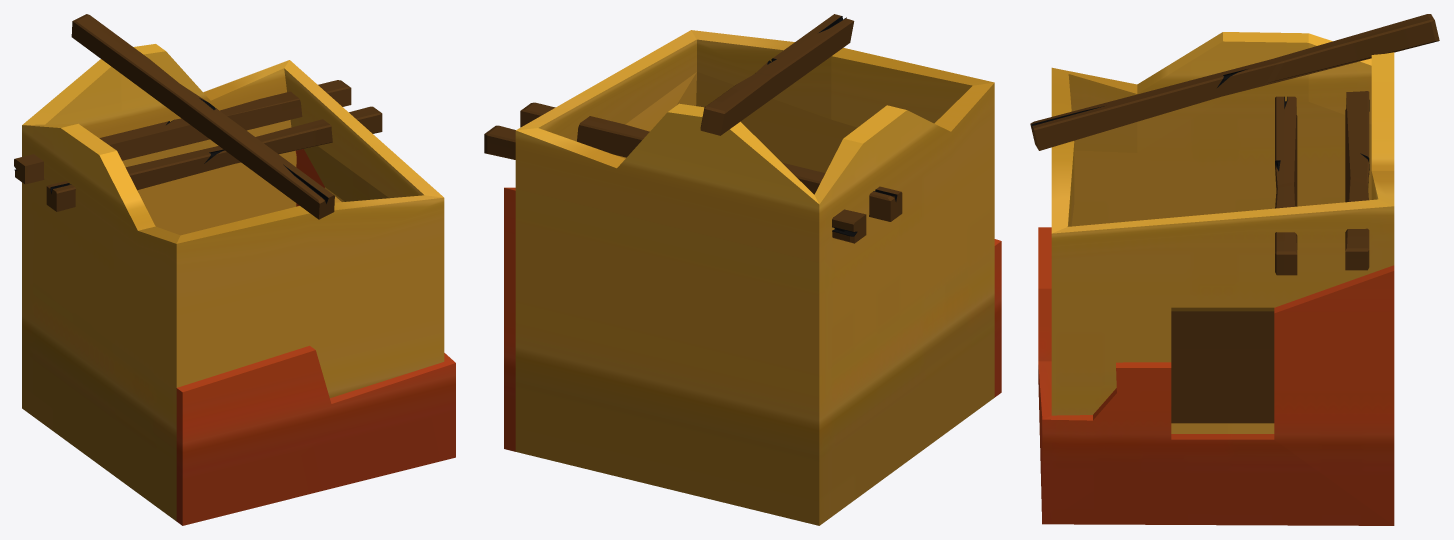
File: RuinaCasa1.glb
3 renders of one model, left to right at view 1: azimuth 30°, elevation 25°; view 2: azimuth 150°, elevation 25°; view 3: azimuth 270°, elevation 25°, orthographic. The views are drawn at different scales.
Parts seen in each view (by area): view 1: RuinaCasa1; view 2: RuinaCasa1; view 3: RuinaCasa1.
Part boxes in pixels (x1,y1,x2,y2): RuinaCasa1: (14,14,455,525); RuinaCasa1: (484,14,1001,525); RuinaCasa1: (1030,14,1439,525).
Size of the model in its own units: 2.21 by 2.34 by 2.17.
1 material, 1 textured.
